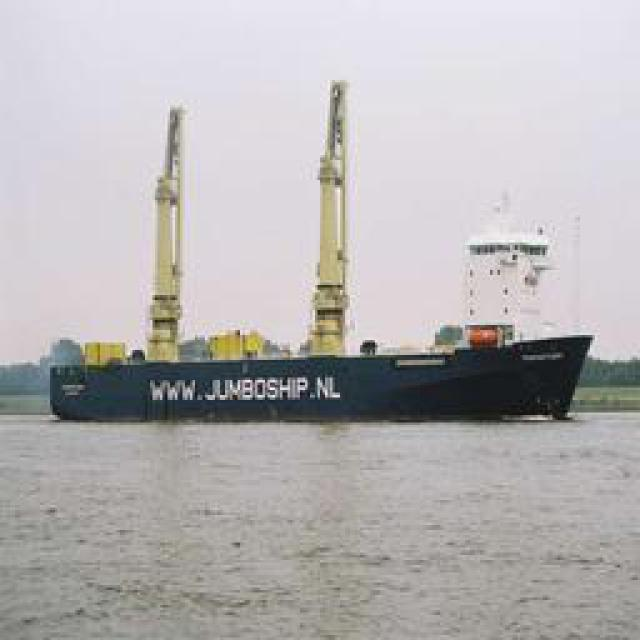Ship: (41, 342, 596, 422)
